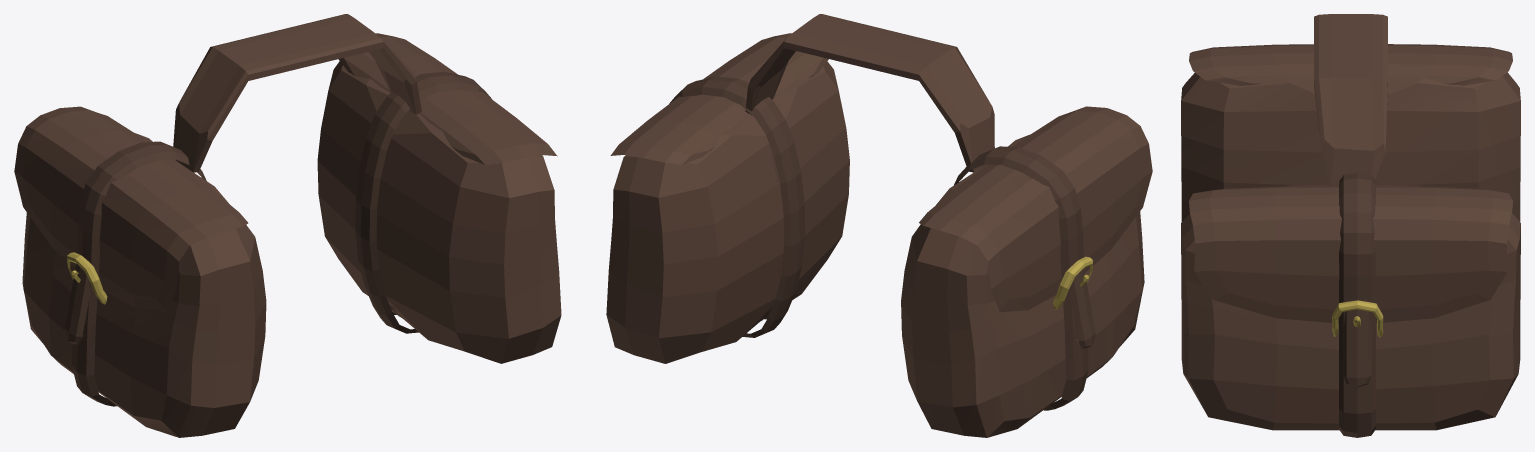
The model's file is saddlebags.glb.
3 renders of one model, left to right at view 1: azimuth 30°, elevation 25°; view 2: azimuth 150°, elevation 25°; view 3: azimuth 270°, elevation 25°, orthographic. The views are drawn at different scales.
Visible parts, largest first — view 1: Bag_right, Bag_left, Belt; view 2: Bag_right, Bag_left, Belt; view 3: Bag_left, Bag_right, Belt.
Boxes of the visible parts, bbox=[...] form: Bag_right: bbox=[14, 106, 266, 437]; Bag_left: bbox=[317, 33, 561, 363]; Belt: bbox=[173, 14, 421, 172]; Bag_right: bbox=[901, 106, 1152, 437]; Bag_left: bbox=[606, 33, 849, 363]; Belt: bbox=[745, 14, 994, 172]; Bag_left: bbox=[1181, 173, 1520, 437]; Bag_right: bbox=[1181, 44, 1520, 221]; Belt: bbox=[1314, 14, 1387, 186].
Size of the model in its own units: 1.16 by 0.8061 by 0.8017.
